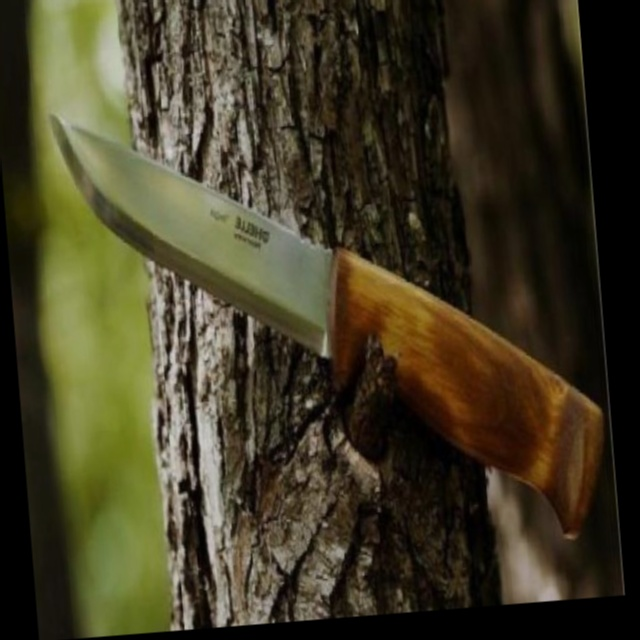Sharp-Object: (48, 68, 610, 574)
